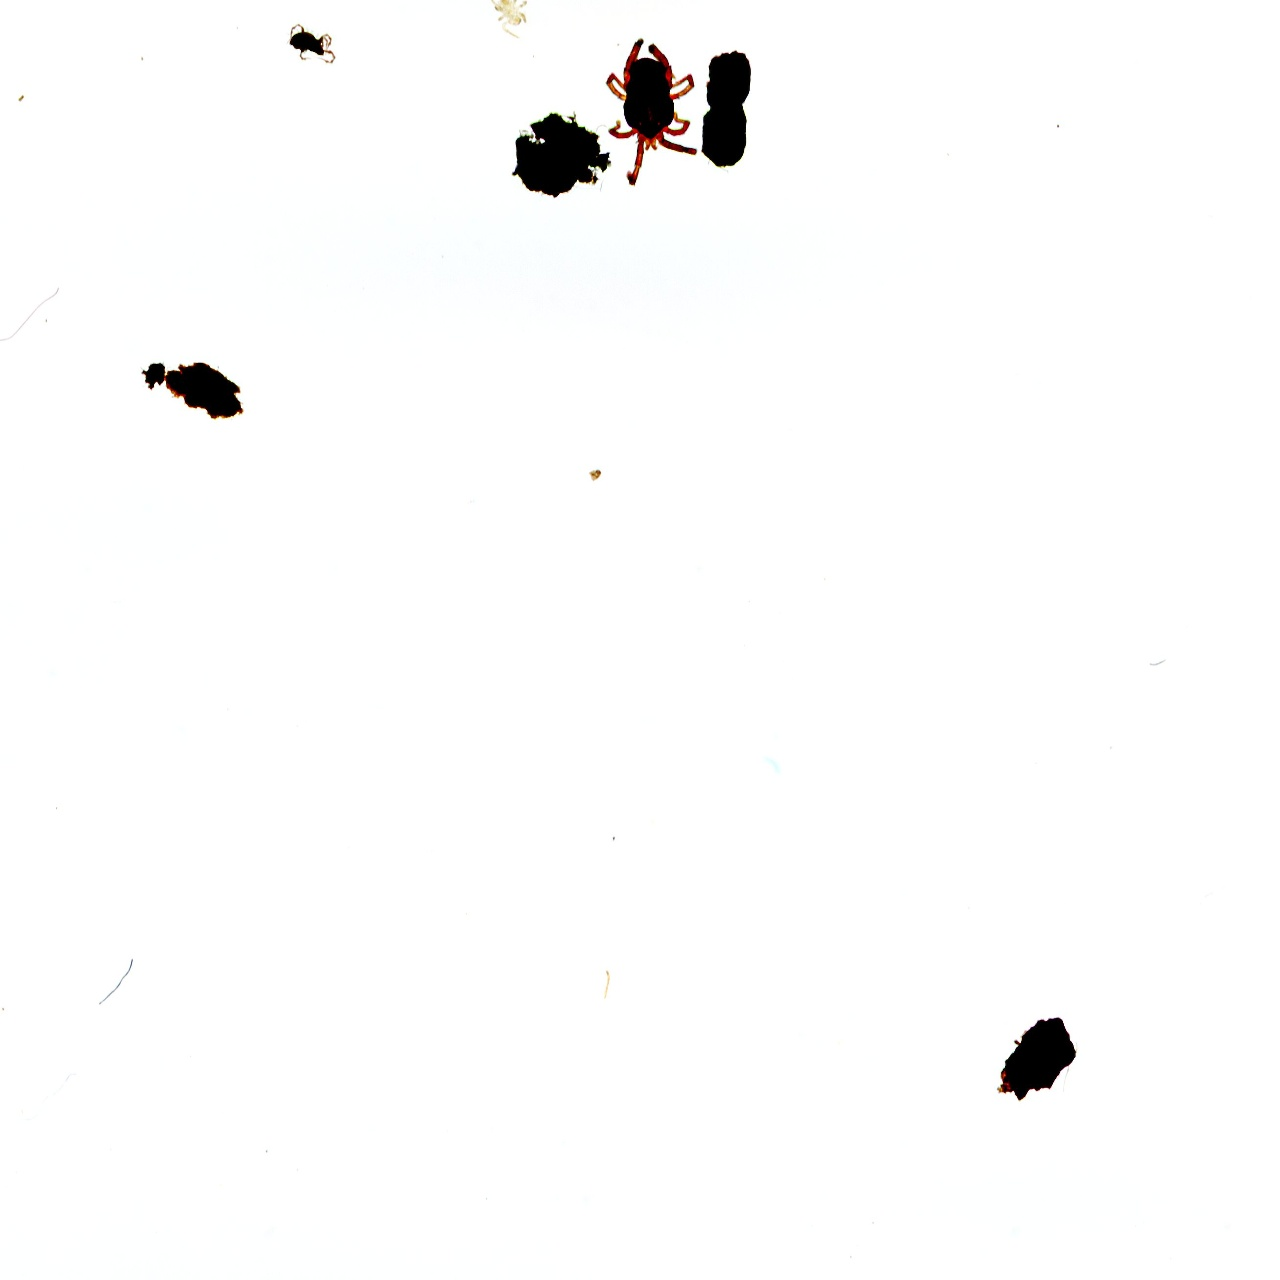arthropod: (604, 36, 698, 188), (478, 0, 543, 45), (286, 22, 337, 65)
